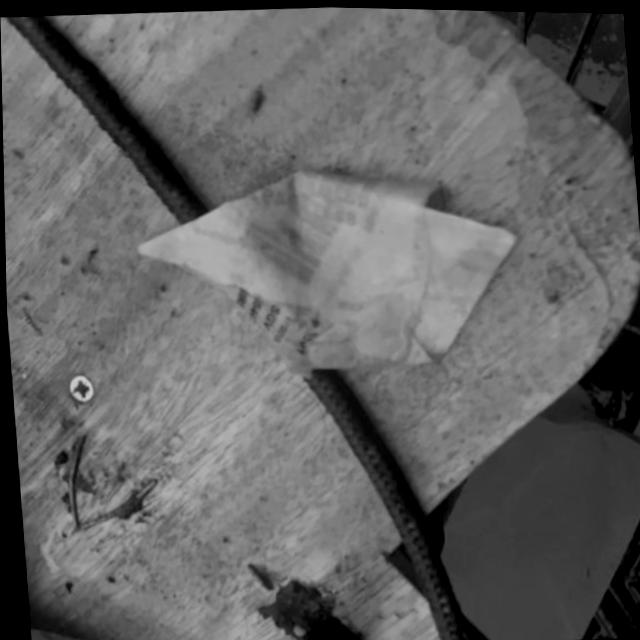Paper: (131, 159, 507, 373)
